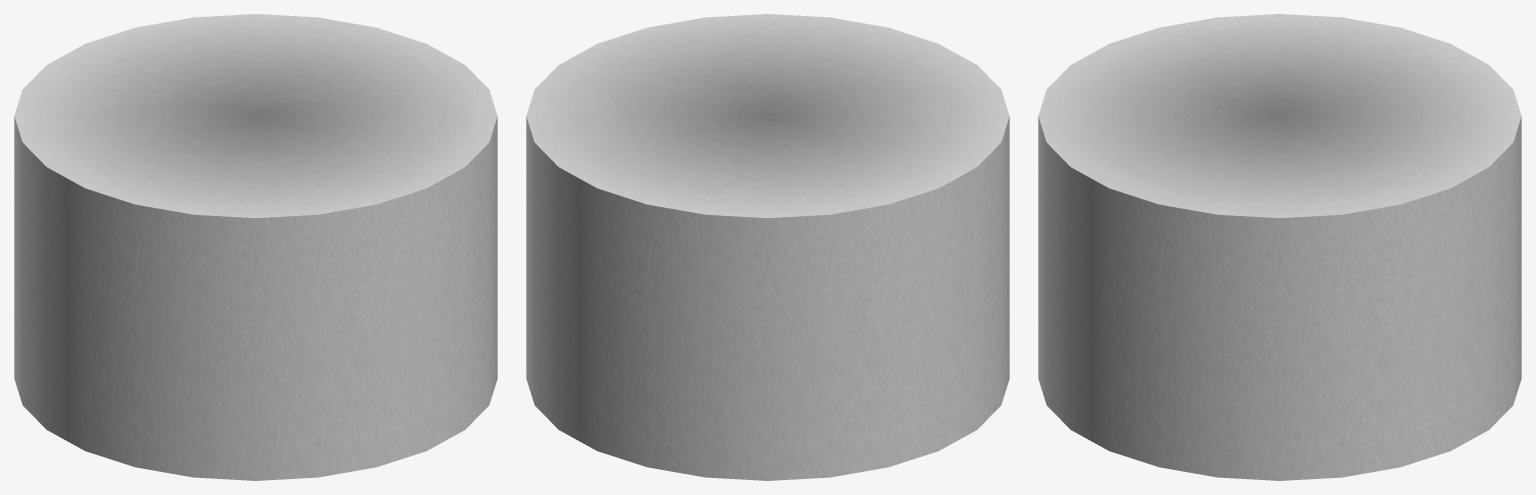
Rendered from YF-2Medium.obj.
3 views of the same model, side by side, from view 1: azimuth 30°, elevation 25°; view 2: azimuth 150°, elevation 25°; view 3: azimuth 270°, elevation 25° (orthographic).
Visible parts, largest first — view 1: YF-2MediumWall, YF-2MediumCap; view 2: YF-2MediumWall, YF-2MediumCap; view 3: YF-2MediumWall, YF-2MediumCap.
Boxes of the visible parts, left/top/right/bottom form: YF-2MediumWall: left=14, top=116, right=497, bottom=480; YF-2MediumCap: left=14, top=14, right=497, bottom=218; YF-2MediumWall: left=526, top=116, right=1009, bottom=480; YF-2MediumCap: left=526, top=14, right=1009, bottom=218; YF-2MediumWall: left=1038, top=116, right=1521, bottom=480; YF-2MediumCap: left=1038, top=14, right=1521, bottom=218.
Bounding box in the file's own units: 1.25 × 0.75 × 1.25.
Materials: 2 (2 with a texture image).
